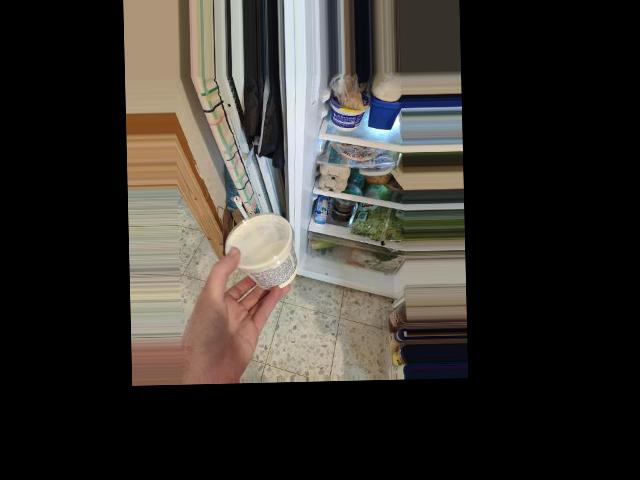cotage: (216, 215, 297, 296)
